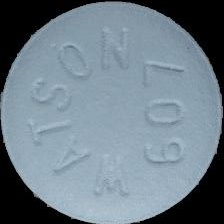63629-5311: (0, 0, 224, 224)
